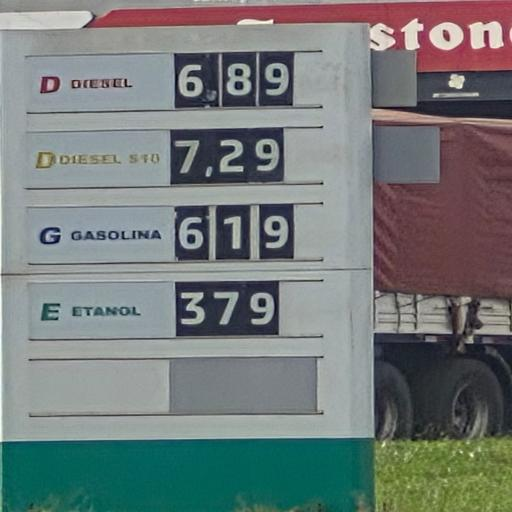ETANOL: (23, 282, 162, 340)
GASOLINA C: (28, 206, 170, 264)
S10: (26, 133, 168, 184)
S500: (27, 60, 159, 103)
placa: (3, 31, 364, 474)
preco: (173, 130, 290, 186), (177, 206, 294, 260), (173, 55, 301, 104), (174, 281, 279, 338)
